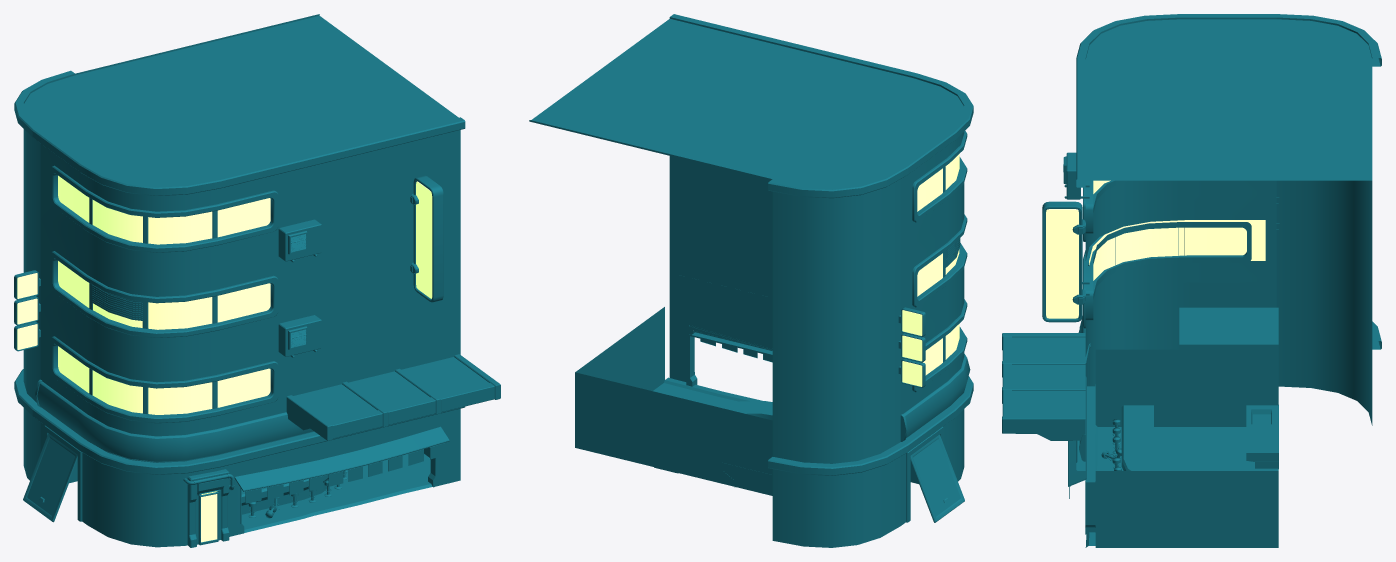
The model's file is Mesh_ArenaWall_Right.FBX.
The picture shows the model from 3 angles, left to right: view 1: azimuth 30°, elevation 25°; view 2: azimuth 150°, elevation 25°; view 3: azimuth 270°, elevation 25°; orthographic projection. The views are drawn at different scales.
Parts seen in each view (by area): view 1: Box001; view 2: Box001; view 3: Box001.
Part boxes in pixels (<box>): Box001: <box>14,14,500,547</box>; Box001: <box>529,14,973,547</box>; Box001: <box>1002,14,1381,547</box>.
Bounding box in the file's own units: 2164 × 2135 × 1988.
